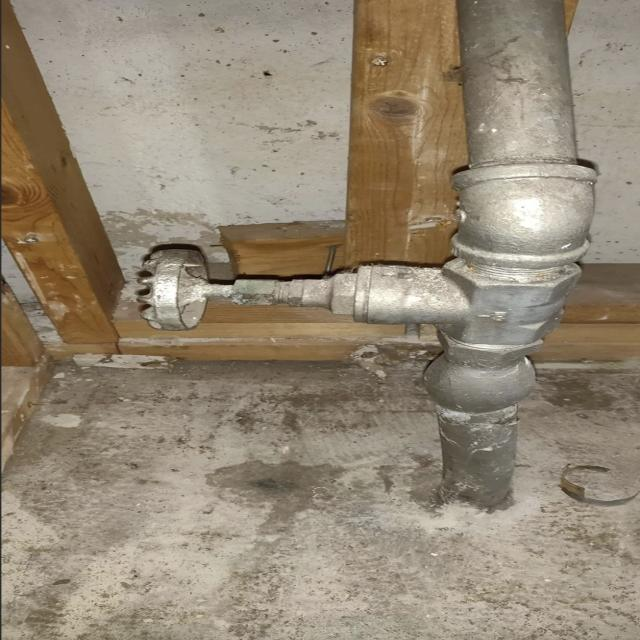Wheel Handle Valve Threaded: (133, 242, 574, 343)
